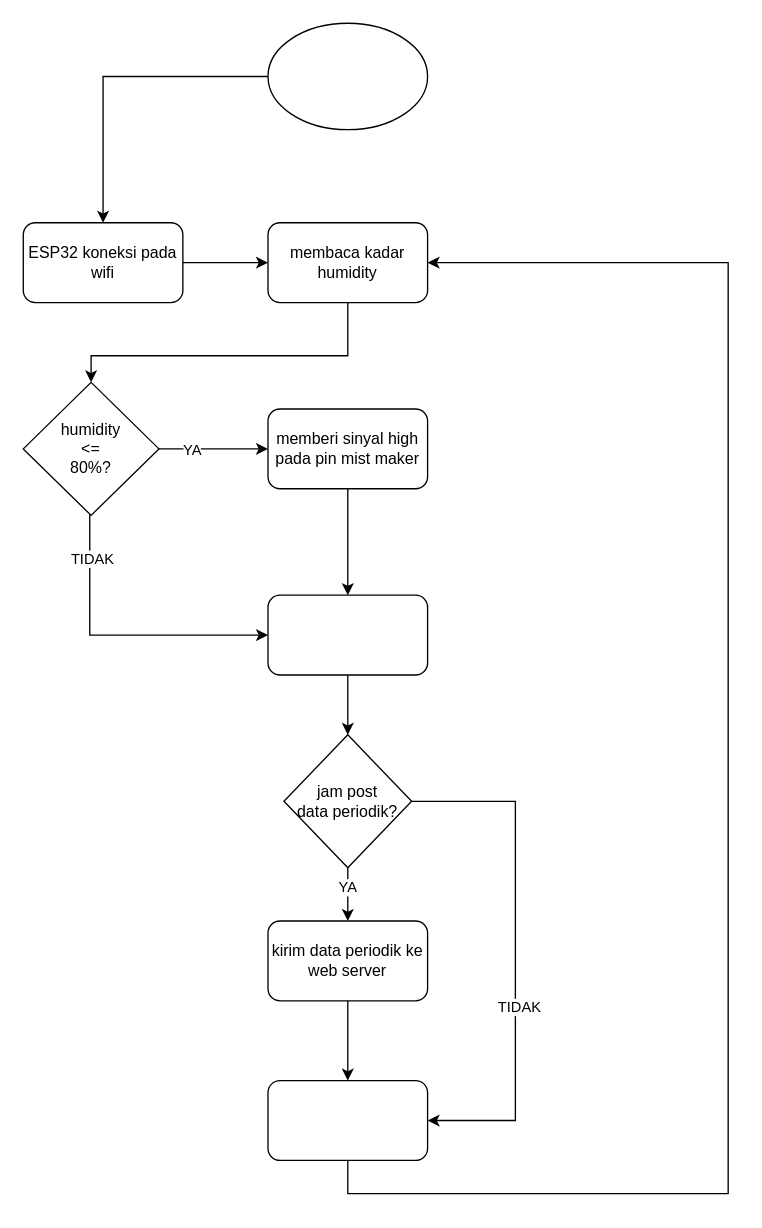
The diagram is 762 pixels wide and 1228 high, and some of its shapes have lost their labels. The shapes that lost their labels are listed below. From the top down, each one's centre as x and y in pixels, then its label:
At point 347,76: "mulai".
At point 347,634: "membaca data jam".
At point 347,1119: "kirim data realtime ke web server".
